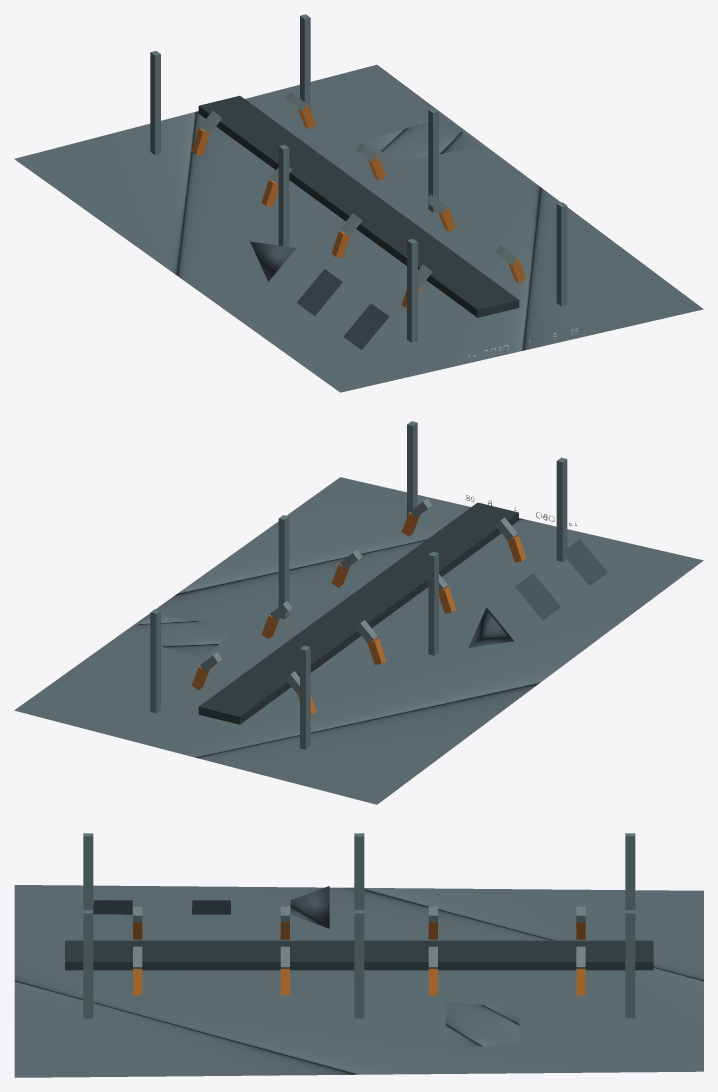
File: robotic_assembly_line_d2_lod2.glb
3 views of the same model, one above another, from view 1: azimuth 30°, elevation 25°; view 2: azimuth 150°, elevation 25°; view 3: azimuth 270°, elevation 25° (orthographic). The views are drawn at different scales.
Parts seen in each view (by area): view 1: ROBOTIC_ASSEMBLY_LINE_LOD2_STATIC_GEOMETRY; view 2: ROBOTIC_ASSEMBLY_LINE_LOD2_STATIC_GEOMETRY; view 3: ROBOTIC_ASSEMBLY_LINE_LOD2_STATIC_GEOMETRY.
Part boxes in pixels (<box>): ROBOTIC_ASSEMBLY_LINE_LOD2_STATIC_GEOMETRY: <box>14,14,703,392</box>; ROBOTIC_ASSEMBLY_LINE_LOD2_STATIC_GEOMETRY: <box>14,421,703,804</box>; ROBOTIC_ASSEMBLY_LINE_LOD2_STATIC_GEOMETRY: <box>14,833,703,1077</box>.
Bounding box in the file's own units: 17.99 × 4.97 × 28.02.
